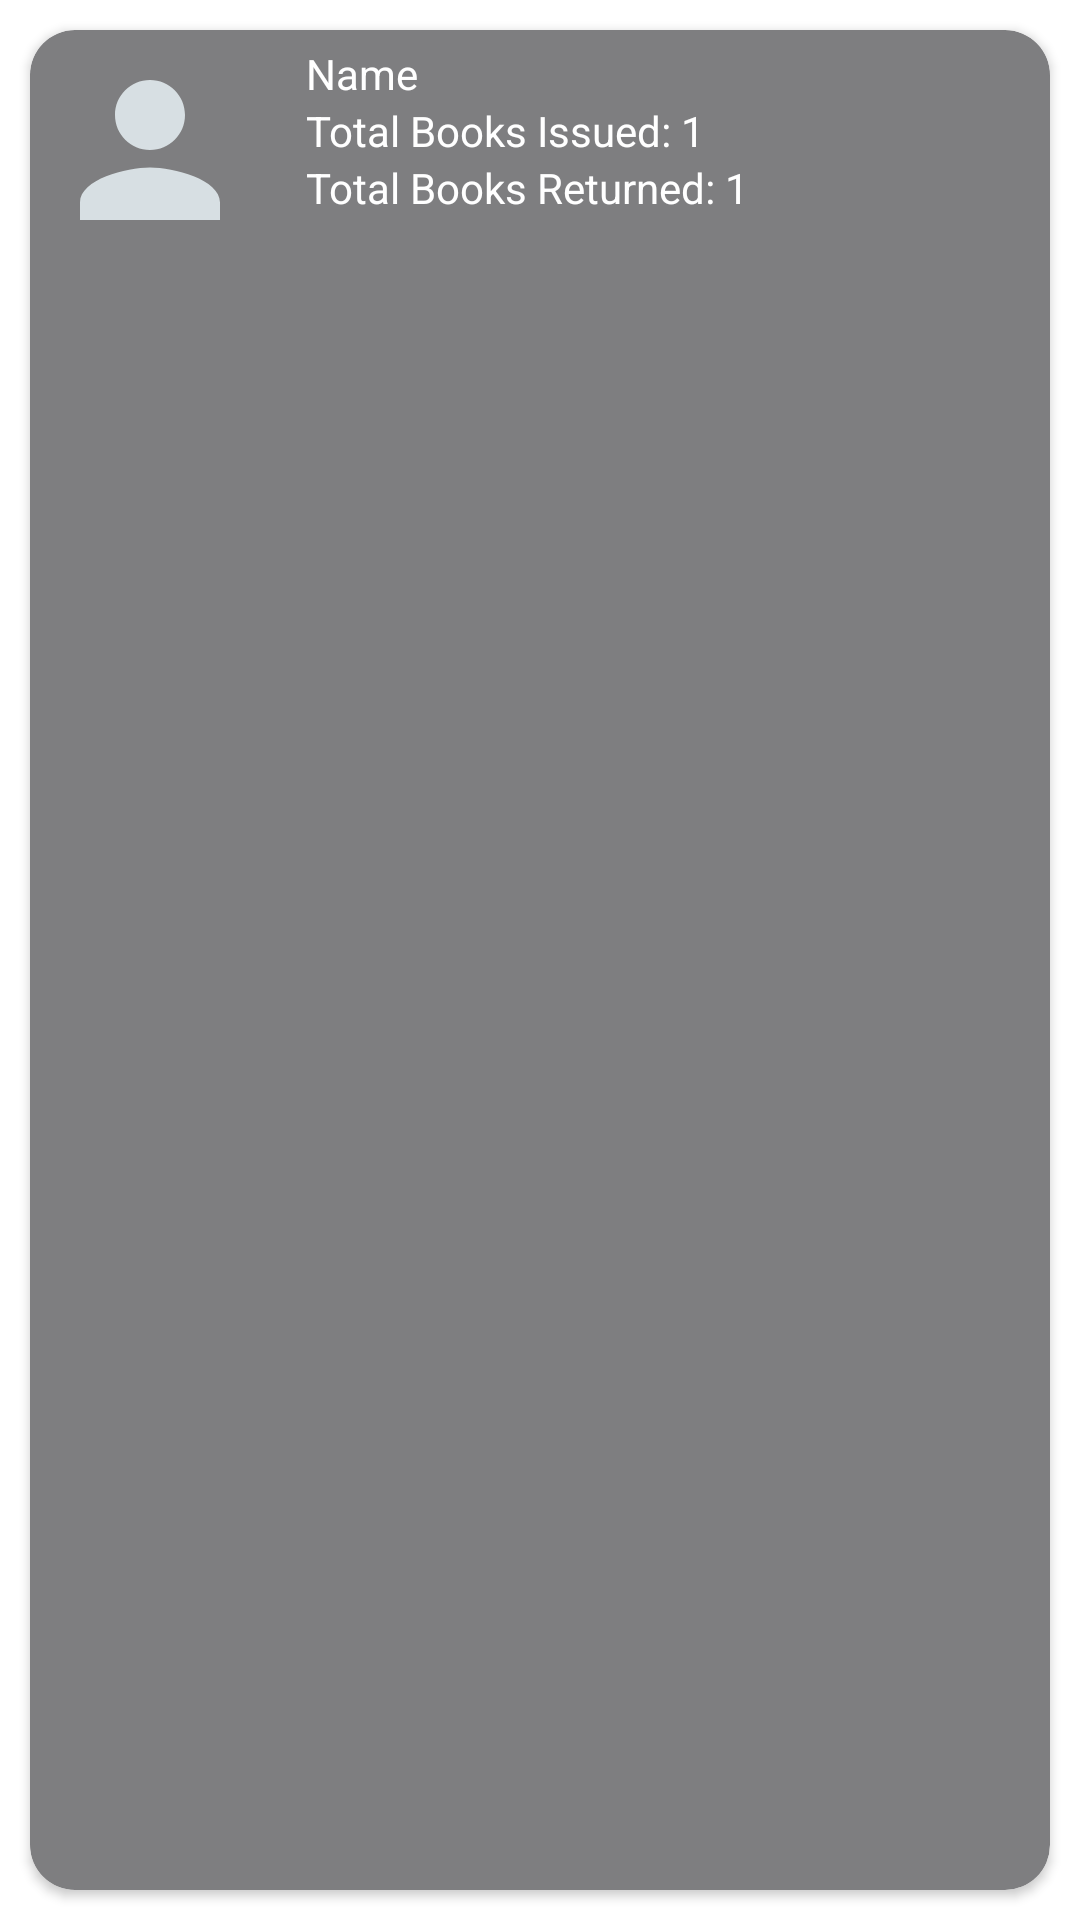

Screen size 1080×1920. Icon name, then its center in pixels as (x=x, y=y):
person: (x=150, y=150)
